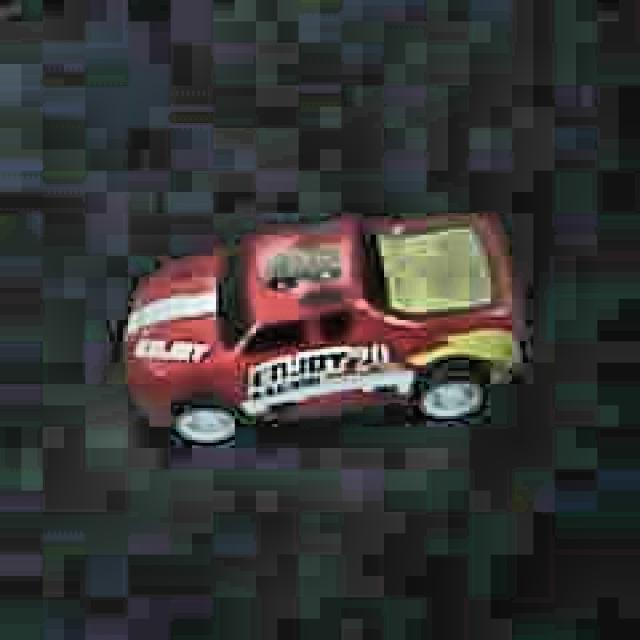car: (113, 204, 533, 456)
